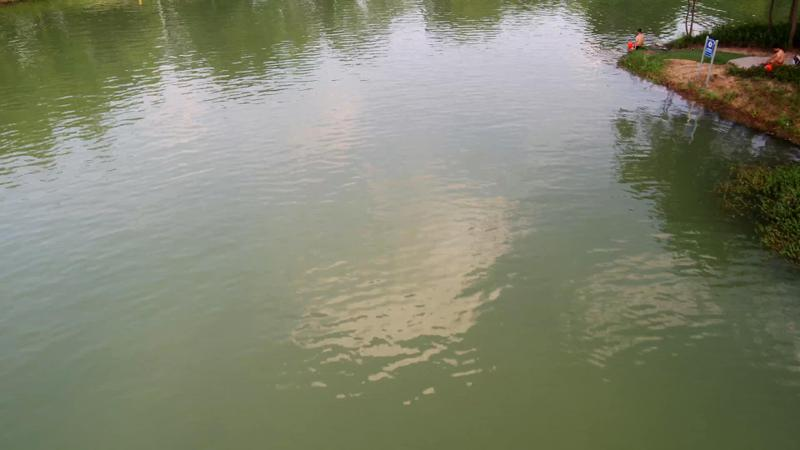sus_swimmers: (767, 44, 786, 65), (632, 28, 645, 50)
